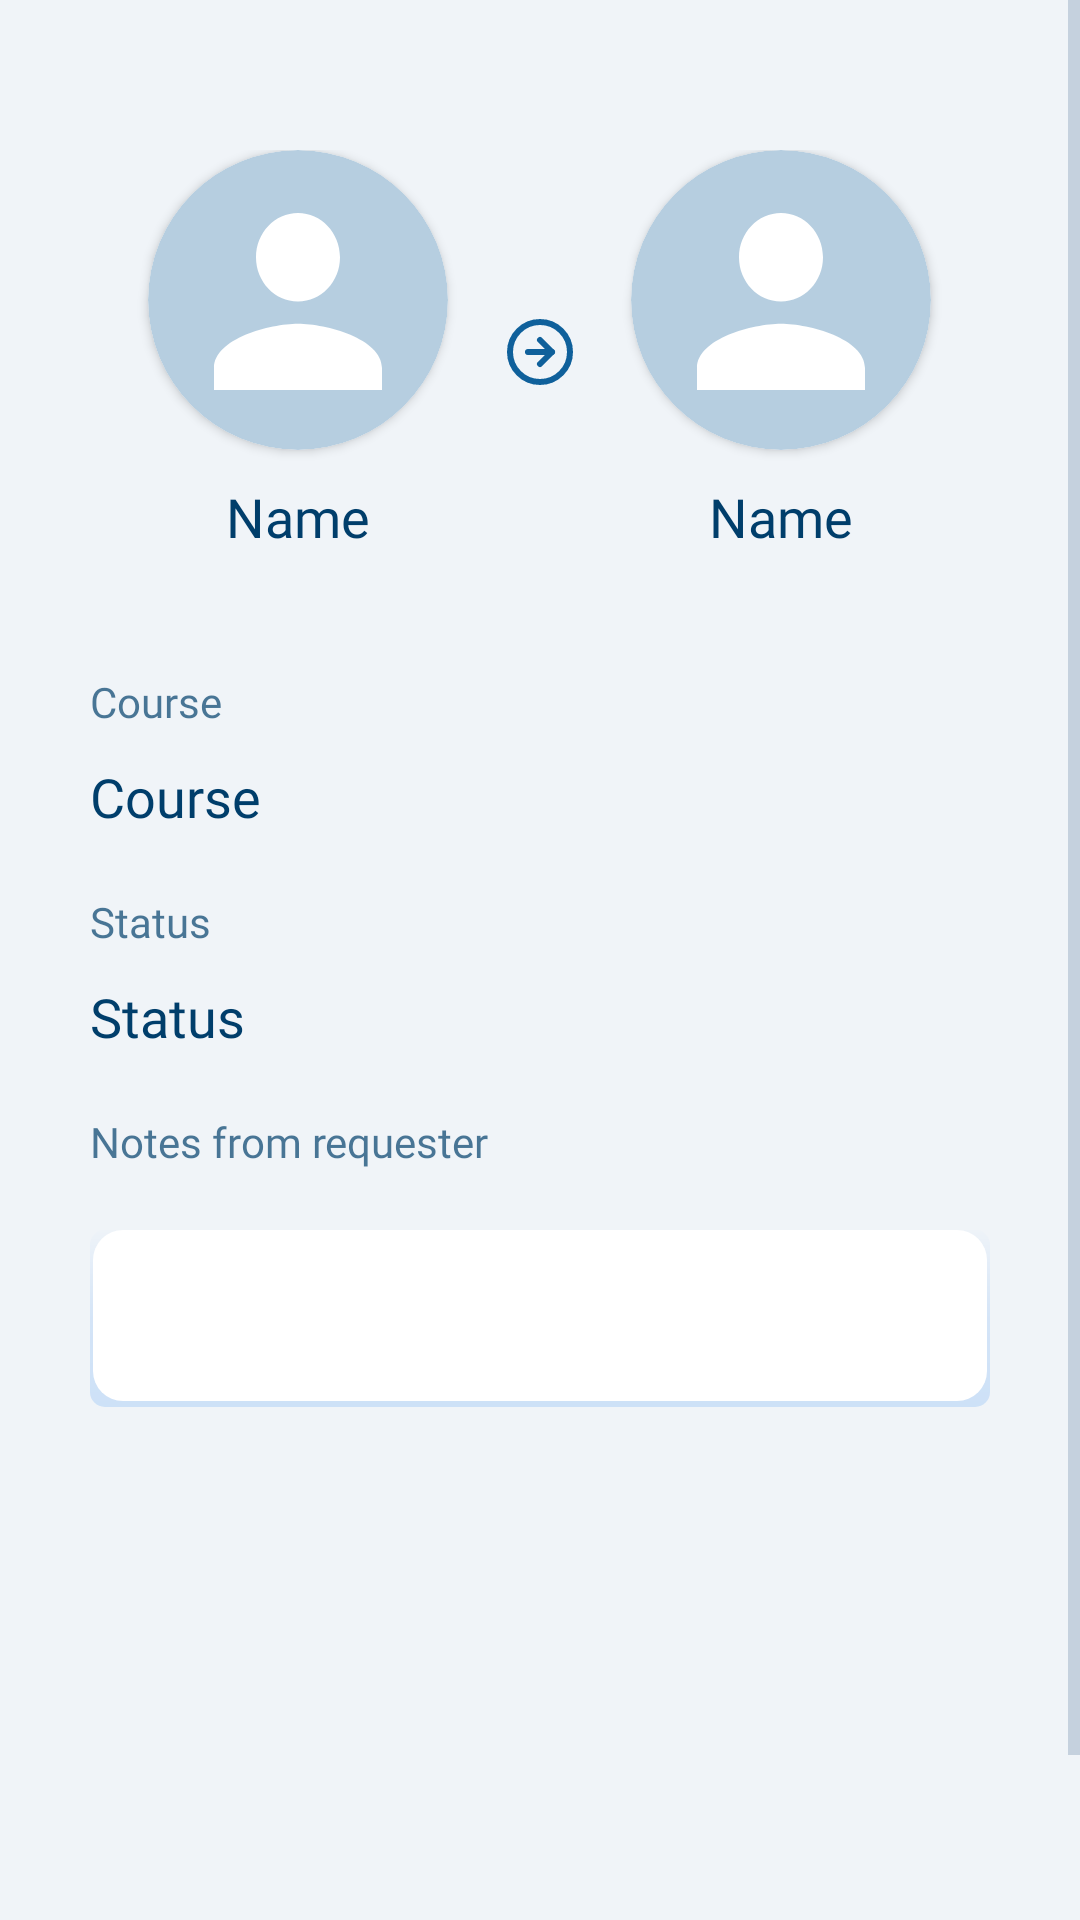

Screen size 1080px x 1920px. Icon name, then its center in pixels as (x,y):
next round: (540,352)
